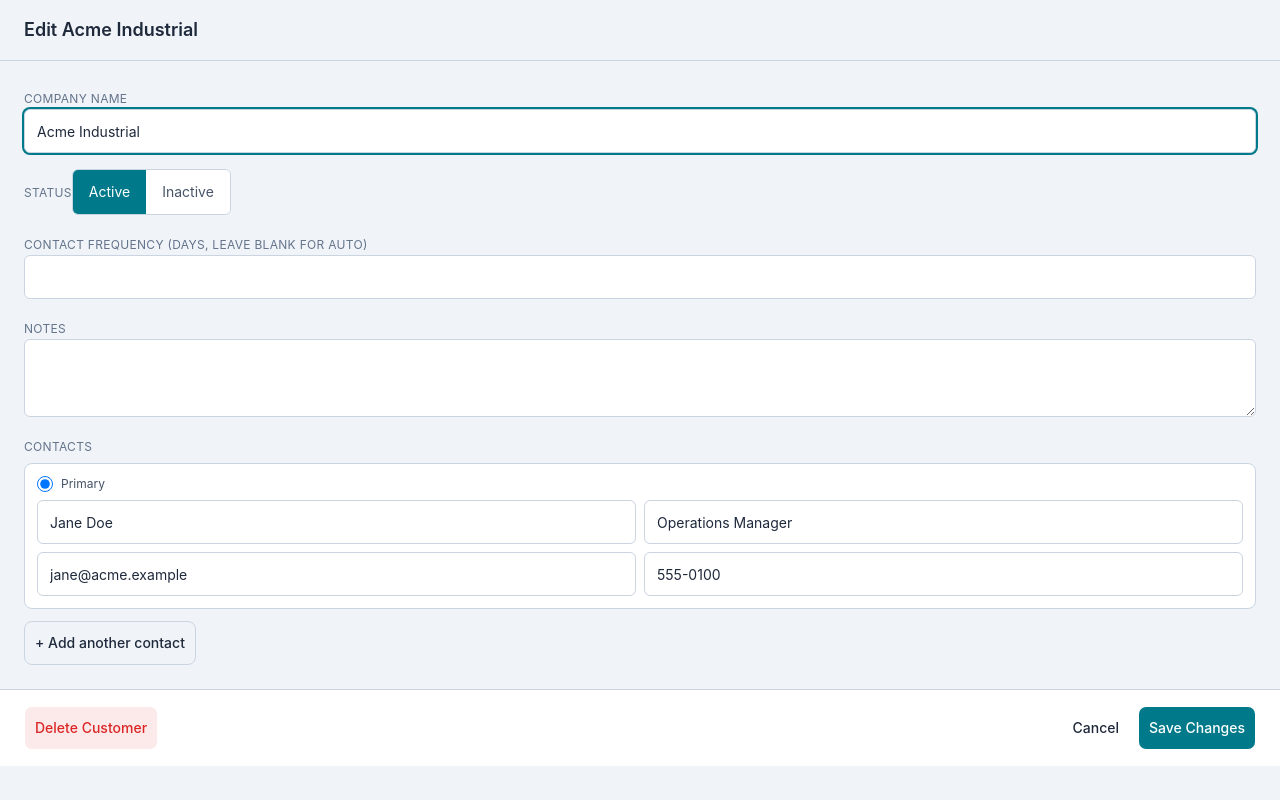
Test: CustomerForm › surfaces an inline error and logs context when updateCustomer rejects (EH-01)
Click the button "Save Changes" at (1197, 728), box [1138,706,1256,750]
(page scrolled)
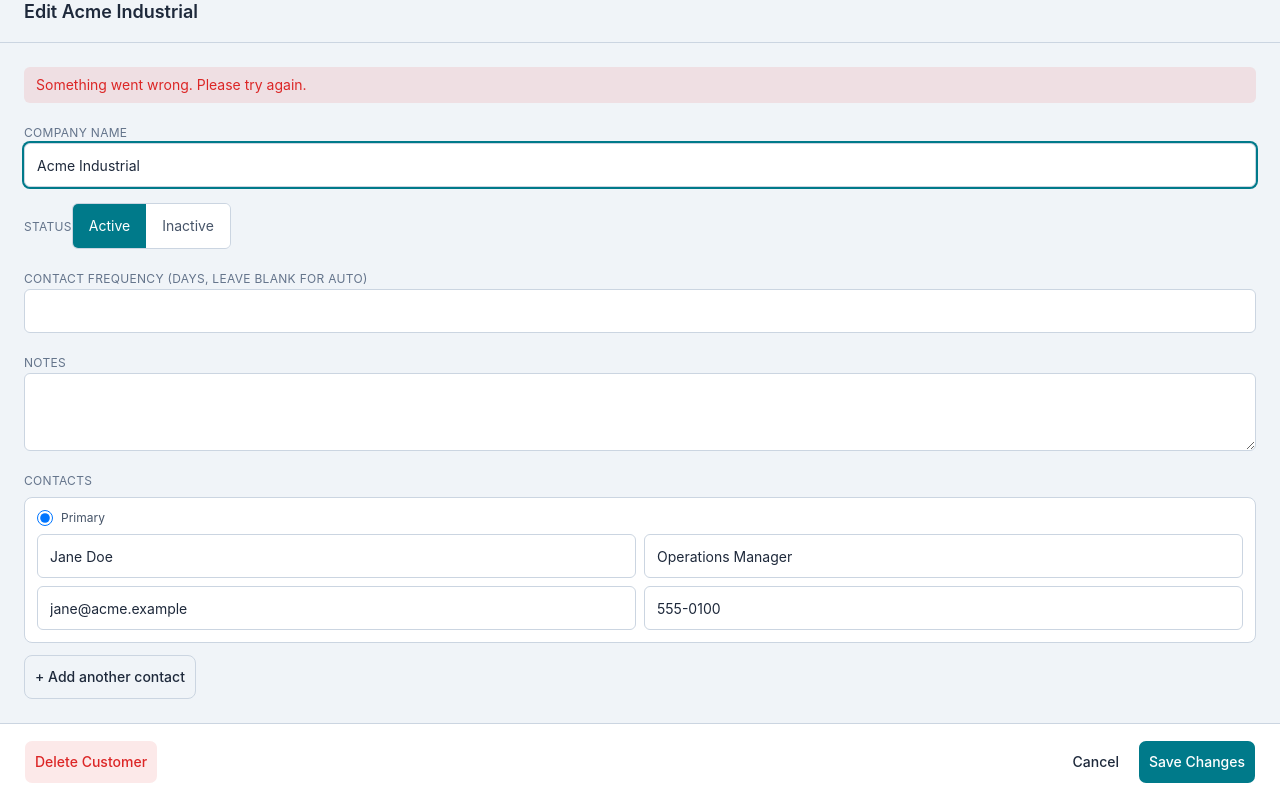
Expected: the button "Save Changes" is enabled, [1138,740,1256,784]
Expected: the message shows "Something went wrong", [36,76,307,93]
